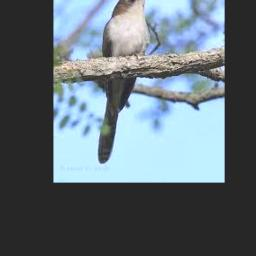Cuckoo: (97, 0, 157, 163)
